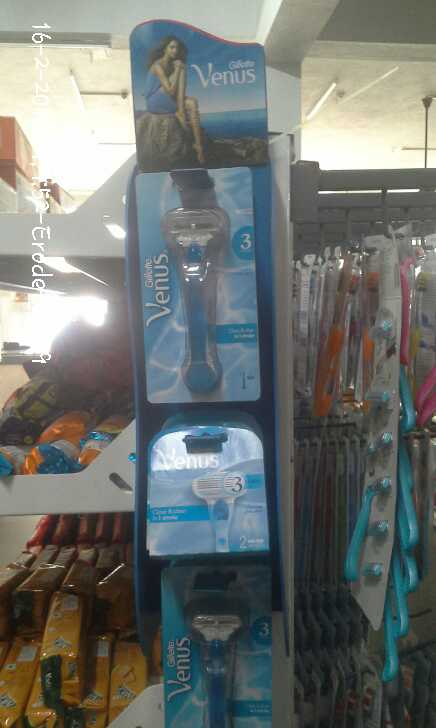venus: (135, 166, 269, 402), (154, 567, 276, 728), (142, 424, 268, 559)
